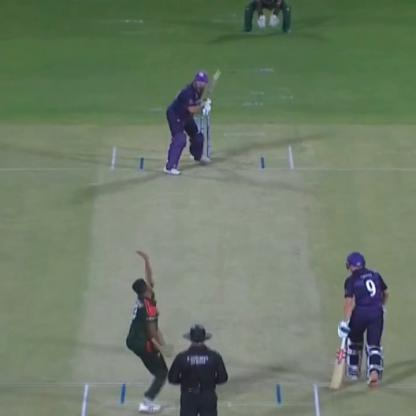bat: (326, 327, 352, 397), (197, 64, 222, 115)
pitch: (68, 142, 328, 415)
